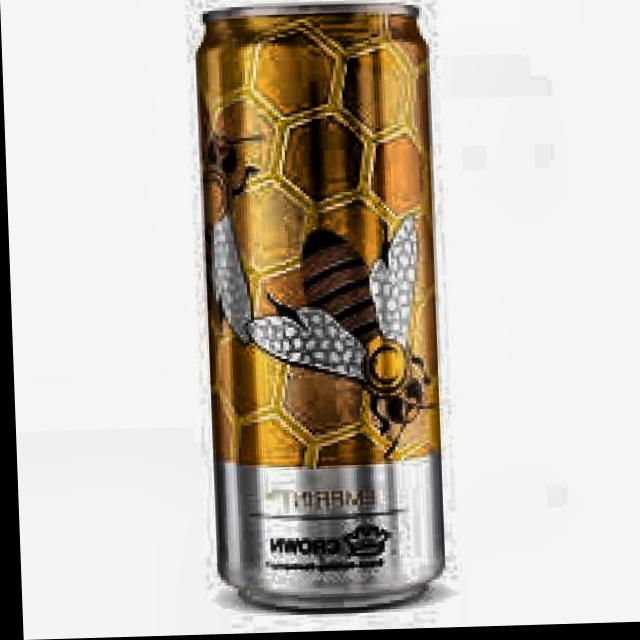can: (183, 0, 452, 618)
